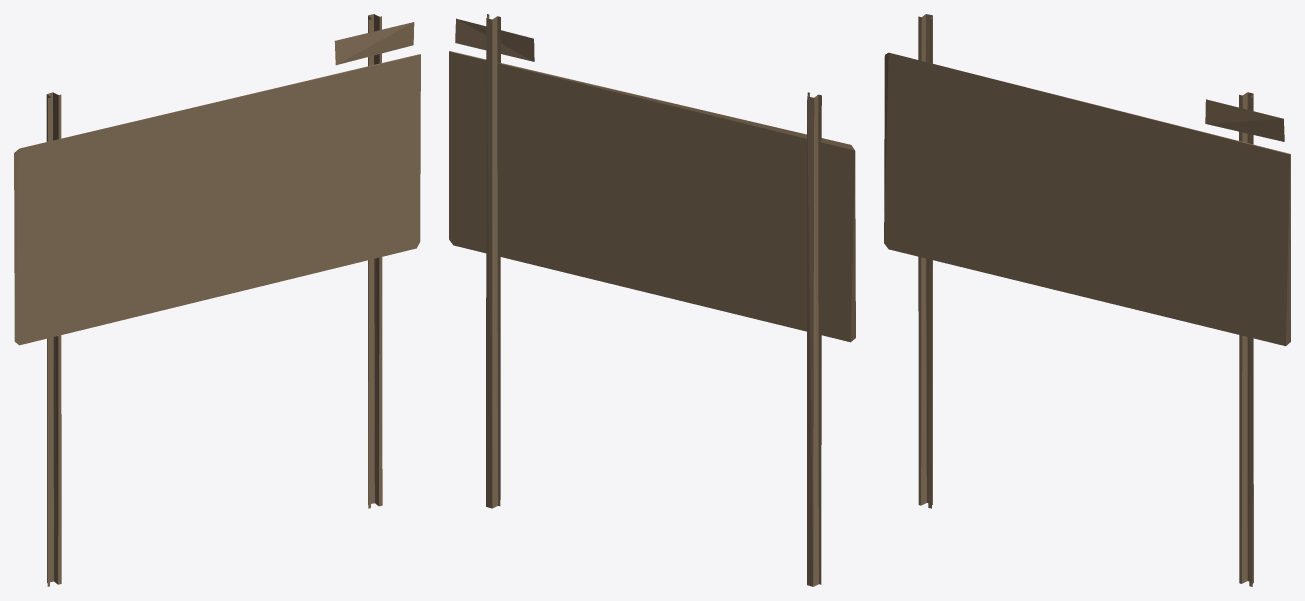
File: road-sign.lod2.glb
The picture shows the model from 3 angles, left to right: view 1: azimuth 30°, elevation 25°; view 2: azimuth 150°, elevation 25°; view 3: azimuth 330°, elevation 25°; orthographic projection.
Parts seen in each view (by area): view 1: Object_96; view 2: Object_96; view 3: Object_96.
Boxes of the visible parts, x1,y1,x2,y2 form: Object_96: (14,14,420,586); Object_96: (449,14,855,586); Object_96: (884,14,1290,586).
Bounding box in the file's own units: 2.26 × 2.6 × 0.0511.
